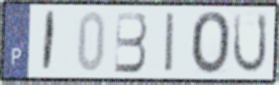0: (76, 10, 109, 74)
B: (113, 10, 149, 75)
I: (40, 9, 58, 74), (164, 10, 176, 75)
O: (190, 10, 233, 77)
U: (231, 11, 269, 75)
